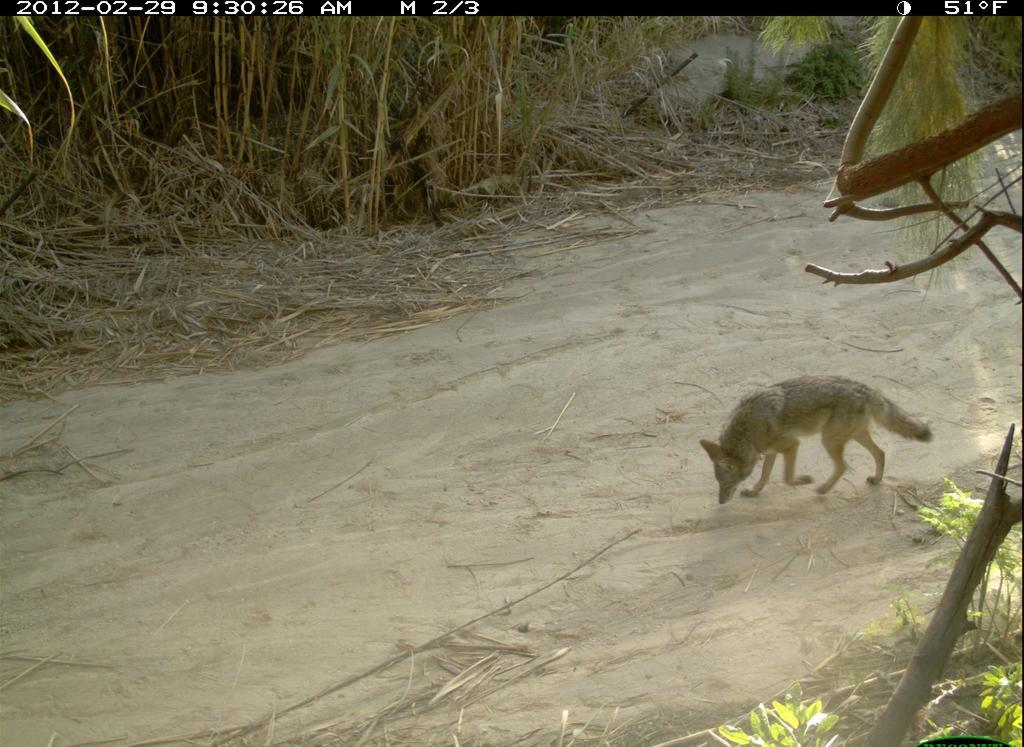coyote: (694, 370, 940, 511)
